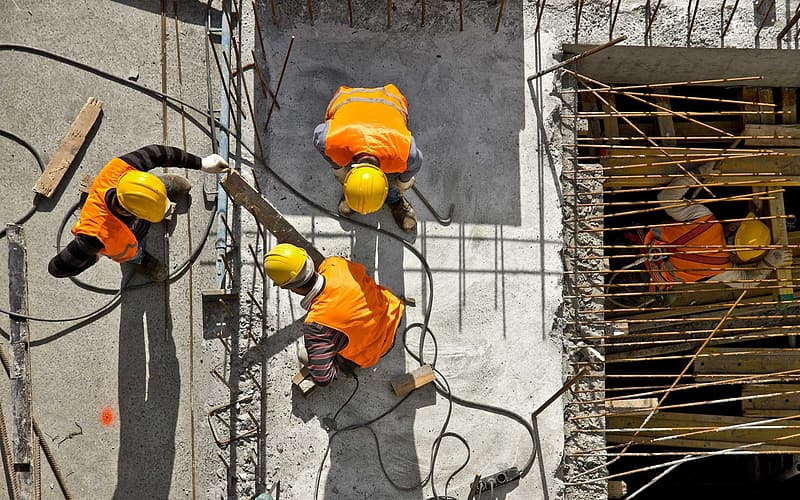Hard Hat: (107, 171, 170, 225), (264, 245, 317, 296), (725, 212, 768, 261)
Person: (46, 153, 227, 288), (606, 184, 771, 313), (259, 242, 405, 383), (314, 86, 421, 228)
Vest: (280, 253, 402, 366), (324, 86, 411, 193), (72, 159, 146, 267), (634, 222, 743, 295)
